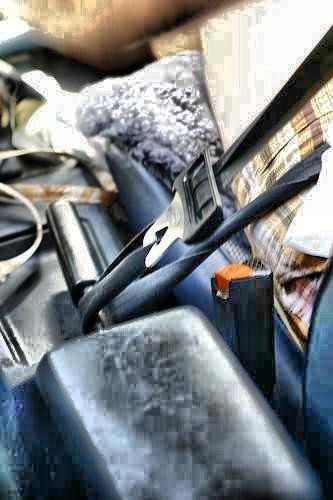seatbelt: (65, 79, 315, 311)
